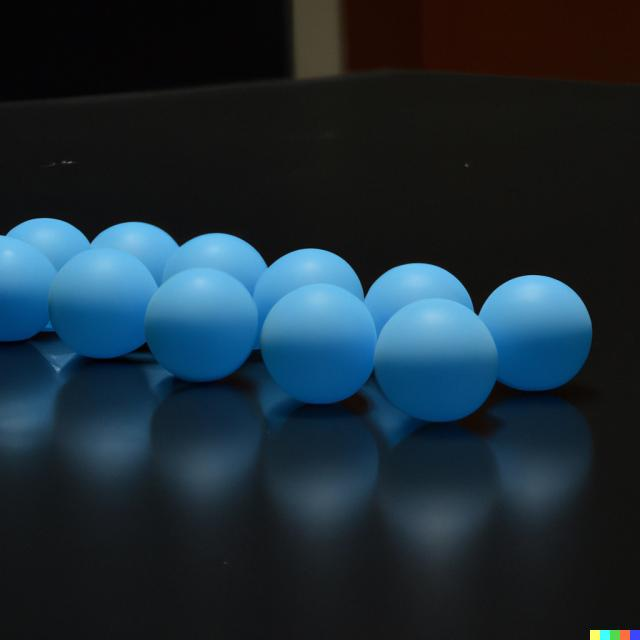blue-golf-balls: (373, 297, 499, 423), (261, 283, 378, 406), (478, 274, 595, 391), (145, 268, 259, 383), (48, 248, 158, 360), (0, 237, 56, 342)
